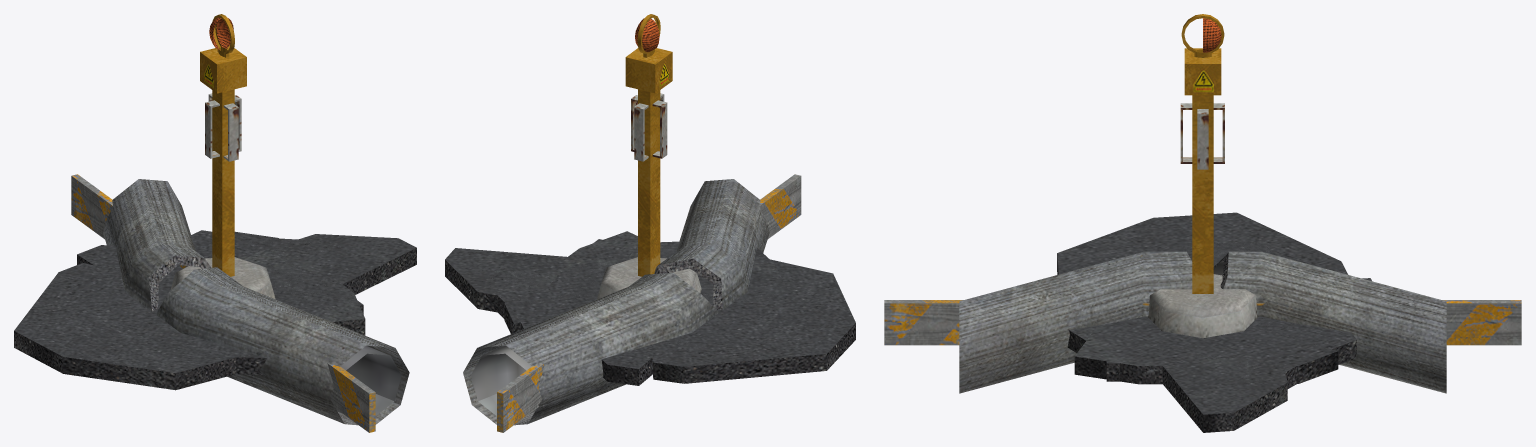
Rendered from broken_pipe.fbx.
3 views of the same model, side by side, from view 1: azimuth 30°, elevation 25°; view 2: azimuth 150°, elevation 25°; view 3: azimuth 270°, elevation 25° (orthographic). The views are drawn at different scales.
Parts seen in each view (by area): view 1: pipe, broken_part1, column, wood, broken_part3, broken_part2, broken_part4, yellow_lamp; view 2: pipe, broken_part1, column, broken_part3, broken_part2, wood, yellow_lamp; view 3: pipe, broken_part1, column, broken_part3, wood, broken_part2.
Boxes of the visible parts, x1,y1,x2,y2 form: pipe: [103, 179, 409, 425]; broken_part1: [14, 234, 416, 390]; column: [171, 14, 275, 299]; wood: [71, 174, 375, 432]; broken_part3: [149, 231, 365, 335]; broken_part2: [77, 230, 349, 374]; broken_part4: [256, 263, 363, 314]; yellow_lamp: [209, 17, 233, 49]; pipe: [463, 179, 769, 425]; broken_part1: [445, 242, 855, 383]; column: [597, 14, 701, 299]; broken_part3: [504, 231, 787, 352]; broken_part2: [488, 241, 769, 385]; wood: [497, 174, 801, 432]; yellow_lamp: [635, 18, 659, 52]; pipe: [959, 251, 1446, 393]; broken_part1: [1057, 212, 1348, 432]; column: [1148, 14, 1257, 338]; broken_part3: [1074, 263, 1338, 384]; wood: [884, 300, 1521, 345]; broken_part2: [1067, 240, 1371, 388].
Size of the model in its own units: 1.49 by 1.24 by 1.99.
